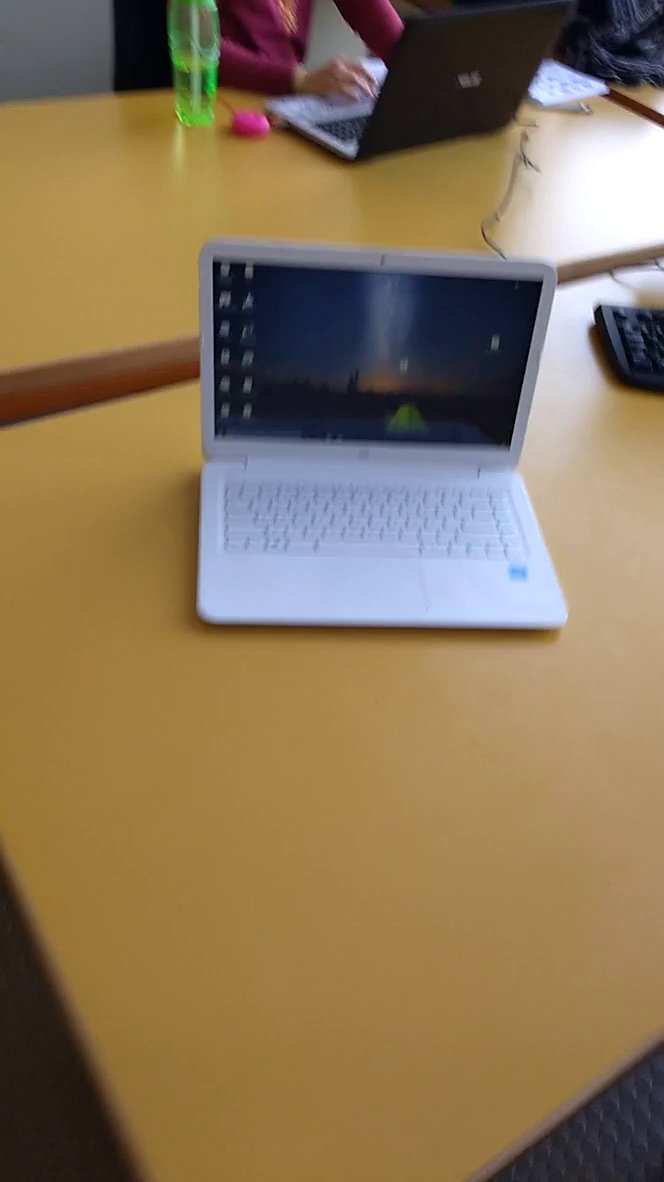laptop: (174, 216, 581, 646)
